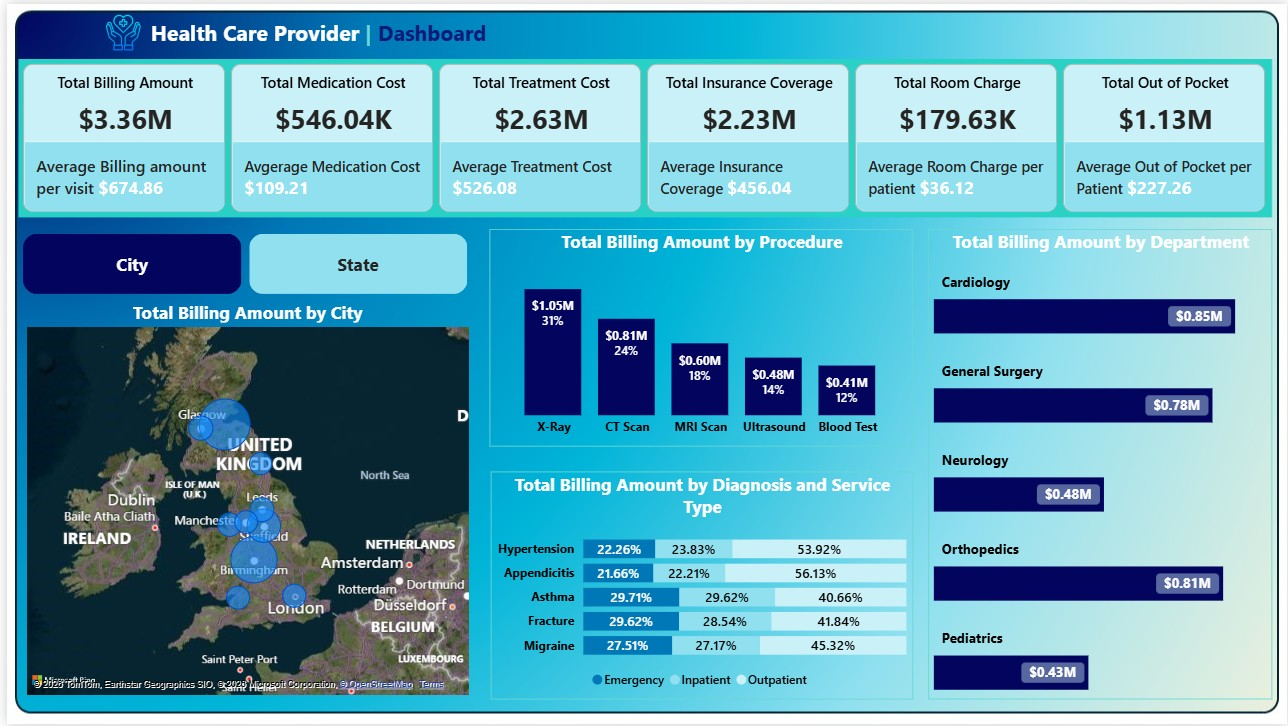

This screenshot's page, from the dashboard's own definition file:
{"tool":"powerbi","page":{"name":"Page 4","canvas":[1280,720],"ordinal":3},"visuals":[{"type":"cardVisual","fields":{"Data":["_Measure Table.Total Billing Amount","_Measure Table.Total Medication Cost","_Measure Table.Total Treatment Cost","_Measure Table.Total Insurance Coverage","_Measure Table.Total Room Charge","_Measure Table.Total Out of Pocket"]},"box":[11.2,55,1253.8,158.8],"z":0},{"type":"advancedSlicerVisual","fields":{"Values":["Patient Location Switch.Patient Location Switch"]},"box":[11.8,225,454.4,70.6],"z":1000},{"type":"clusteredColumnChart","fields":{"Category":["procedures.Procedure"],"Y":["_Measure Table.Total Billing Amount"]},"box":[482.4,225,423.5,217.6],"z":3000},{"type":"hundredPercentStackedBarChart","fields":{"Category":["diagnoses.Diagnosis"],"Y":["_Measure Table.Total Billing Amount"],"Series":["visits.Service Type"]},"box":[483.8,467.6,422.1,227.9],"z":4000},{"type":"clusteredBarChart","title":"Total Billing Amount by Department","fields":{"Category":["departments.Department"],"Y":["_Measure Table.Blank Measure","_Measure Table.Total Billing Amount"]},"box":[921.2,225,343.8,470],"z":5000},{"type":"textbox","box":[138.8,8.8,441.2,46.2],"z":6000},{"type":"image","box":[89.3,4.8,55.5,47.1],"z":7000},{"type":"map","fields":{"Category":["cities.City"],"Size":["_Measure Table.Total Billing Amount"]},"box":[14.4,295.8,451.6,399.6],"z":7001}]}

Visuals, with their boxes in screenshot pixels (x1, y1, x2, y2), scaled from the page's 1280x720 canvas onto the 1288x726 screenshot:
cardVisual - _Measure Table.Total Billing Amount x _Measure Table.Total Medication Cost: (11, 55, 1273, 216)
advancedSlicerVisual - Patient Location Switch.Patient Location Switch: (12, 227, 469, 298)
clusteredColumnChart - procedures.Procedure x _Measure Table.Total Billing Amount: (485, 227, 912, 446)
hundredPercentStackedBarChart - diagnoses.Diagnosis x _Measure Table.Total Billing Amount: (487, 471, 912, 701)
"Total Billing Amount by Department" clusteredBarChart: (927, 227, 1273, 701)
textbox: (140, 9, 584, 55)
image: (90, 5, 146, 52)
map - cities.City x _Measure Table.Total Billing Amount: (14, 298, 469, 701)
